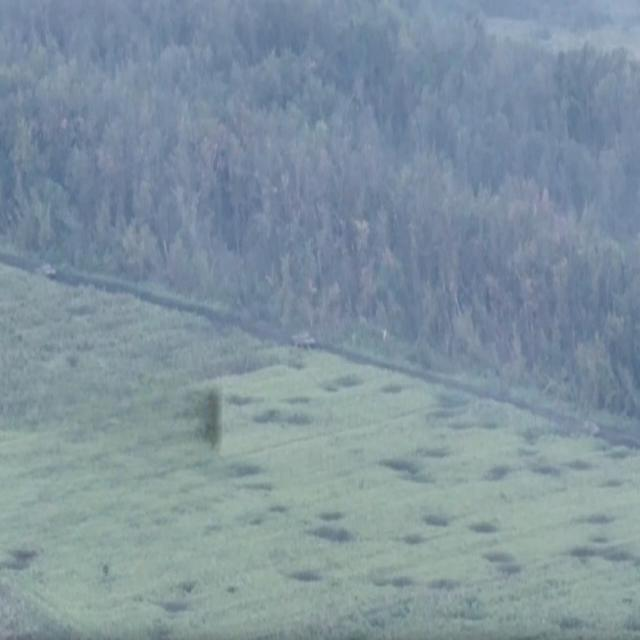AIFV: (291, 328, 317, 353), (38, 260, 59, 284)
